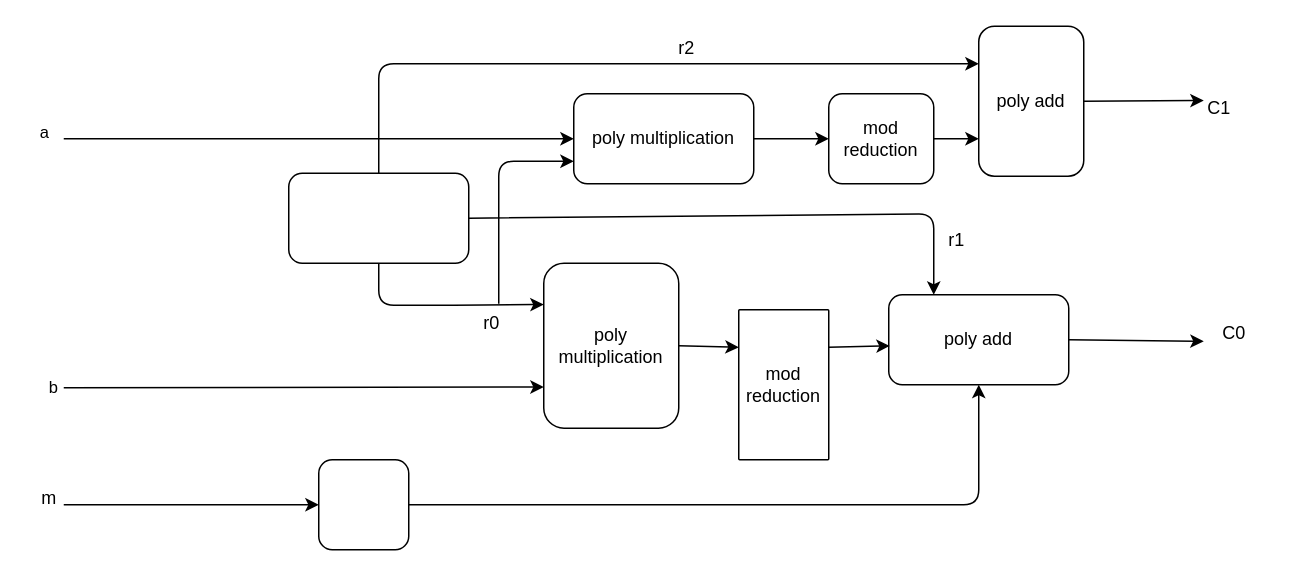
The diagram is 1289 pixels wide and 576 high, and some of its shapes have lost their labels. Each missing label, with the box of its shape:
mul: (317, 458, 409, 550)
Noise sampling: (287, 172, 469, 263)
